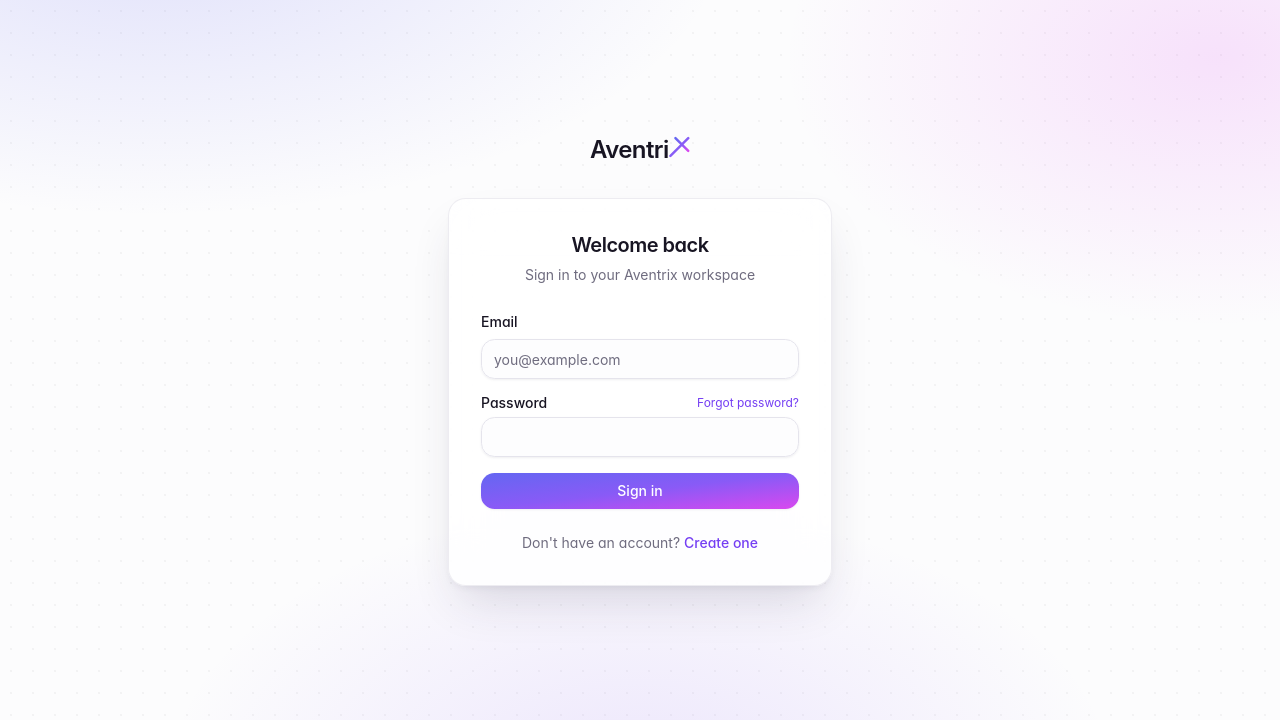
Test: LoginPage › shows validation errors for an invalid email and empty password
Step 1. Type "not-an-email" into the field labelled "Email" → [640, 359], box [481,339,799,379]
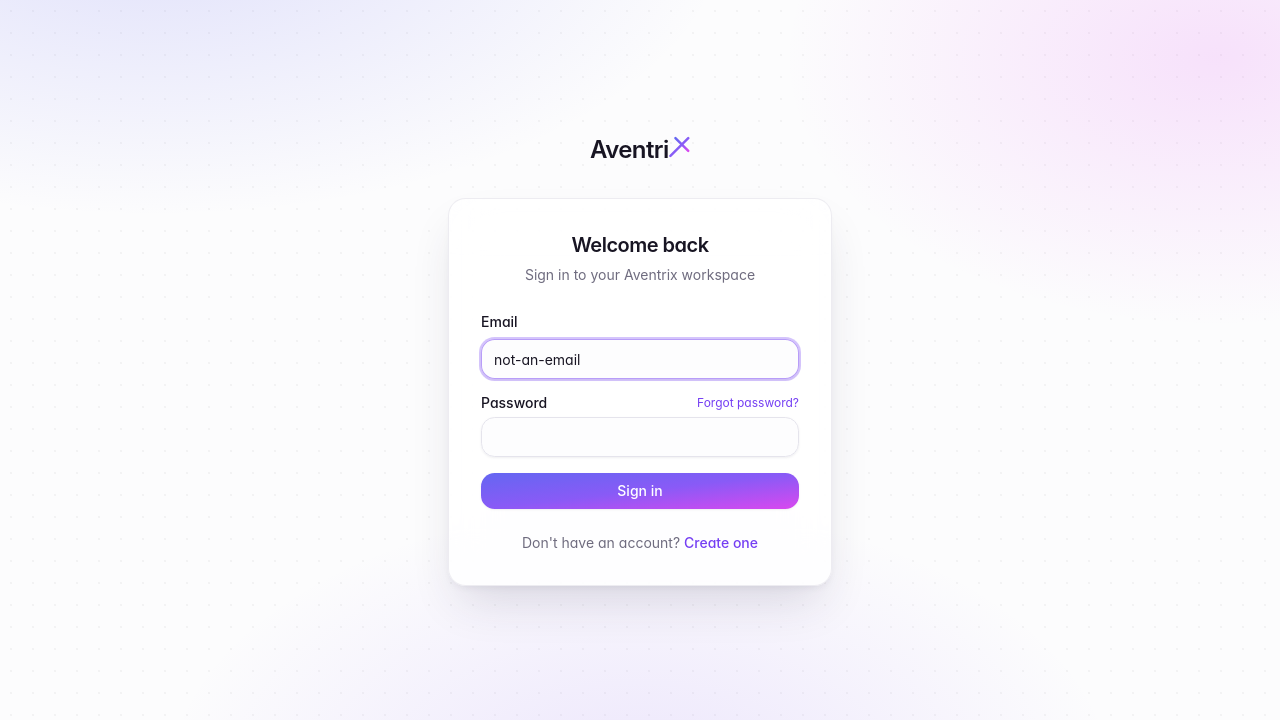
Step 2. Click the button "Sign in" → [640, 491], box [481,473,799,509]
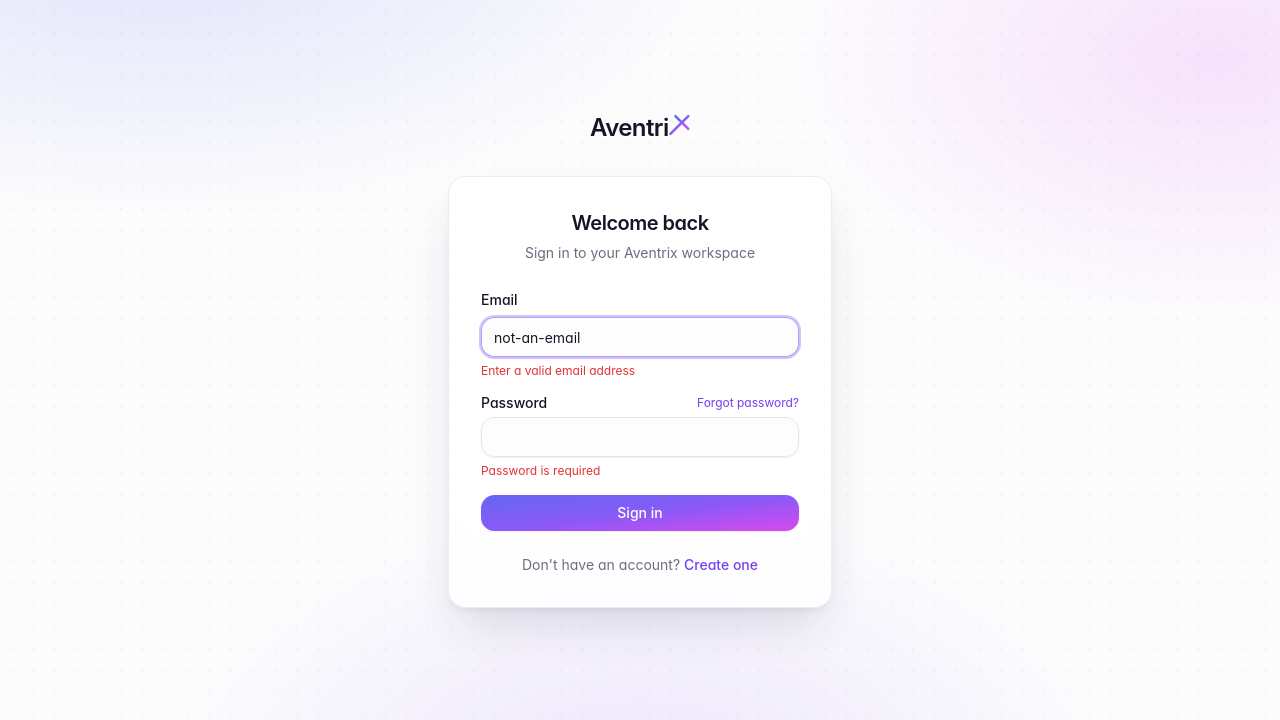
expect the text "Enter a valid email address" is shown: met, box [481,363,635,378]
expect the text "Password is required" is shown: met, box [481,463,600,478]
